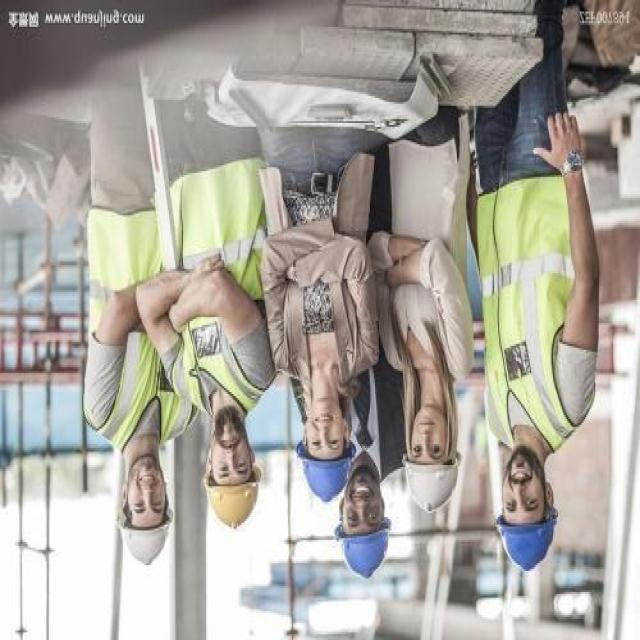helmet: (322, 520, 398, 592), (490, 510, 562, 574), (287, 442, 355, 508), (110, 508, 176, 573), (195, 472, 262, 534), (399, 460, 462, 519)
jacket: (476, 176, 592, 457), (170, 162, 268, 408)
